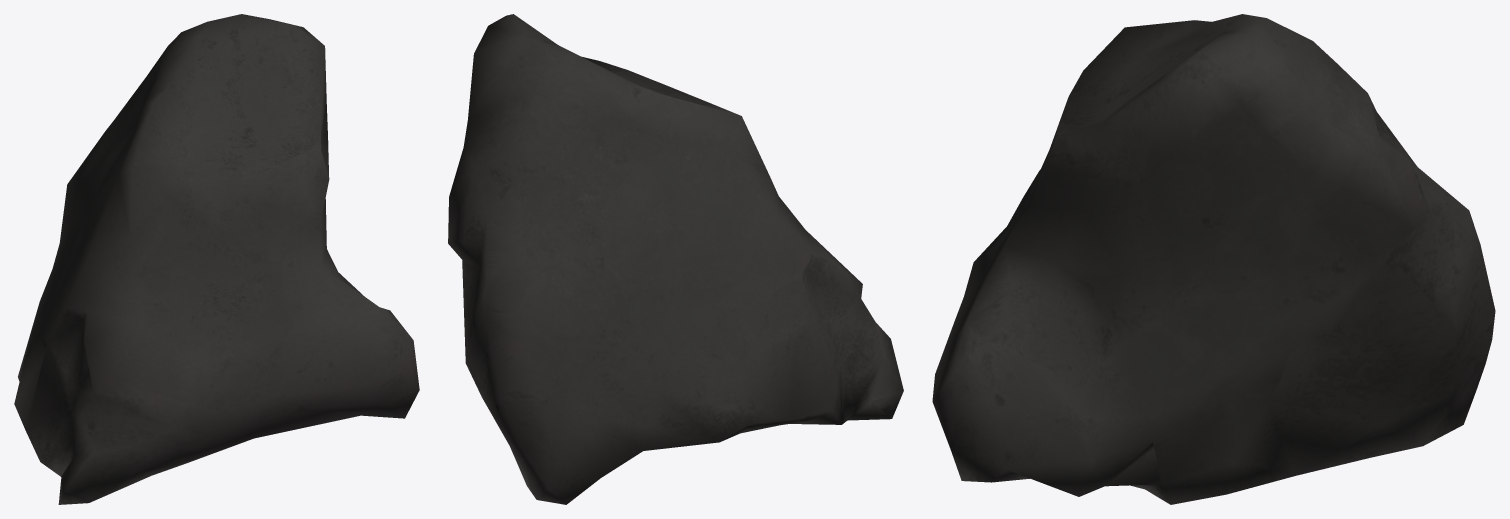
The model's file is scoria_rock.glb.
3 views of the same model, side by side, from view 1: azimuth 30°, elevation 25°; view 2: azimuth 150°, elevation 25°; view 3: azimuth 270°, elevation 25° (orthographic). The views are drawn at different scales.
Parts seen in each view (by area): view 1: scoria_rock; view 2: scoria_rock; view 3: scoria_rock.
Boxes of the visible parts, box(x1,y1,x2,y2) form: scoria_rock: box(14, 14, 419, 504); scoria_rock: box(448, 14, 903, 504); scoria_rock: box(932, 14, 1495, 504).
Bounding box in the file's own units: 1.71 × 1.76 × 1.95.
Materials: 1 (1 with a texture image).
